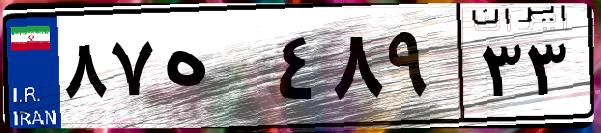3: (475, 38, 525, 113), (525, 38, 570, 115)
4: (270, 28, 330, 110)
7: (110, 28, 158, 98)
8: (330, 28, 385, 110), (57, 26, 110, 100)
9: (385, 28, 445, 110)
ه: (158, 20, 270, 120)
